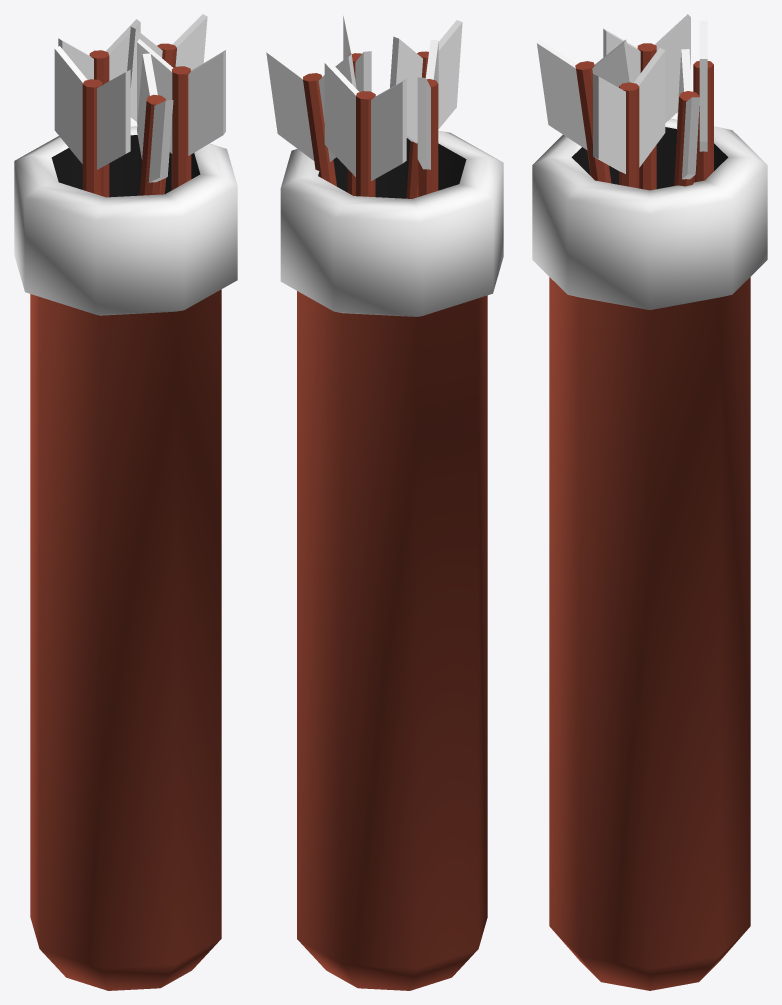
Rendered from ArrowNormalPickup.dae.
3 renders of one model, left to right at view 1: azimuth 30°, elevation 25°; view 2: azimuth 150°, elevation 25°; view 3: azimuth 270°, elevation 25°, orthographic.
Parts seen in each view (by area): view 1: Cube; view 2: Cube; view 3: Cube.
Part boxes in pixels (<box>): Cube: <box>14,14,237,990</box>; Cube: <box>266,14,503,990</box>; Cube: <box>532,14,767,990</box>.
Size of the model in its own units: 0.2351 by 0.2336 by 1.01.
